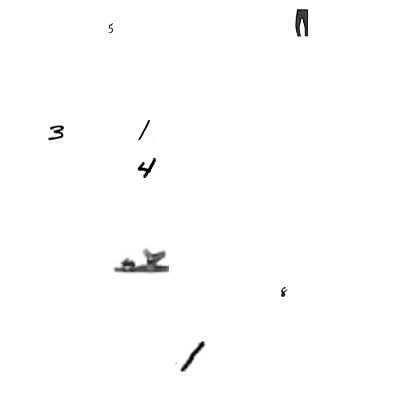1: (171, 334, 213, 376), (130, 115, 158, 143)
3: (46, 121, 68, 143)
4: (132, 154, 160, 182)
5: (104, 21, 118, 35)
8: (276, 285, 290, 299)
Sandal: (113, 232, 169, 288)
Trouser: (288, 9, 316, 37)
